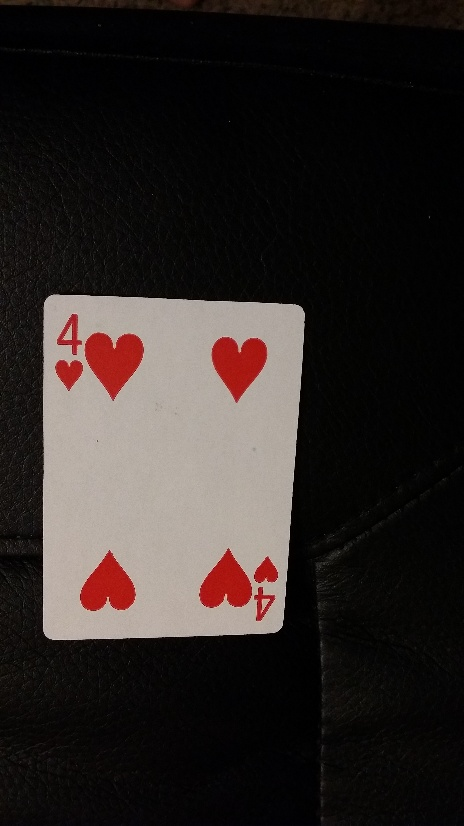H4: (54, 307, 85, 389), (252, 546, 278, 623)
